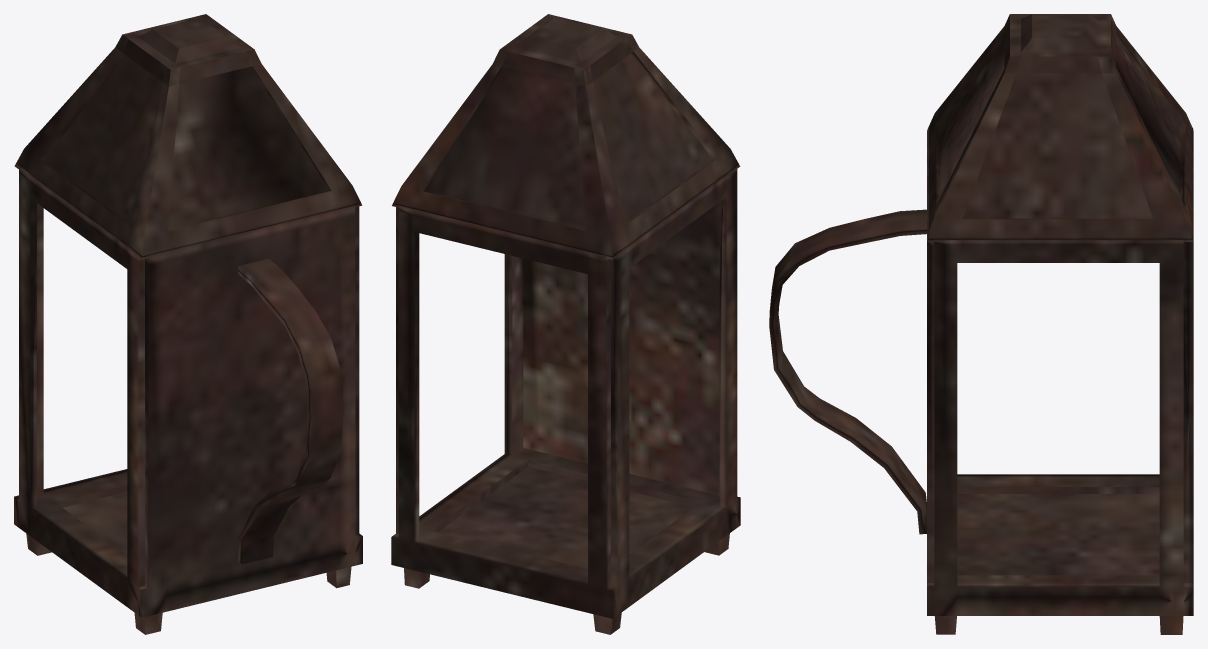
File: asset.glb
3 views of the same model, side by side, from view 1: azimuth 30°, elevation 25°; view 2: azimuth 150°, elevation 25°; view 3: azimuth 270°, elevation 25° (orthographic). The views are drawn at different scales.
Visible parts, largest first — view 1: lantern; view 2: lantern; view 3: lantern.
Boxes of the visible parts, x1,y1,x2,y2 form: lantern: [14, 14, 362, 634]; lantern: [391, 14, 740, 634]; lantern: [769, 14, 1193, 634].
Bounding box in the file's own units: 4.68 × 10.78 × 7.45.
1 material, 1 textured.
